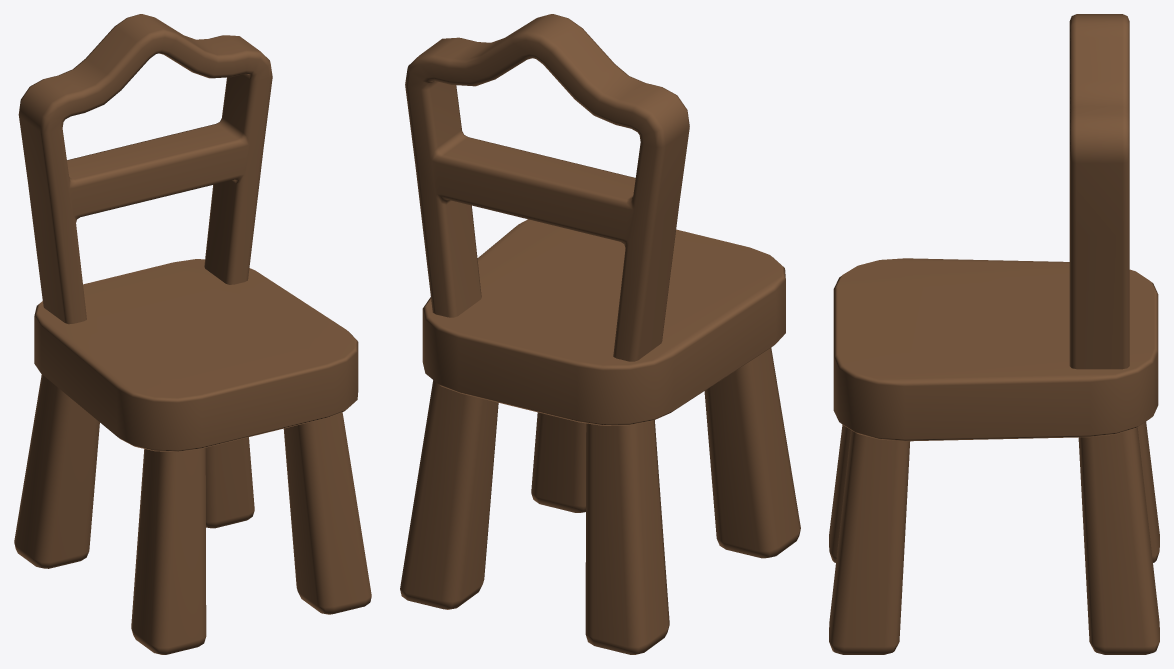
Rendered from Chair_brown.glb.
The picture shows the model from 3 angles, left to right: view 1: azimuth 30°, elevation 25°; view 2: azimuth 150°, elevation 25°; view 3: azimuth 270°, elevation 25°; orthographic projection. The views are drawn at different scales.
Visible parts, largest first — view 1: Chair_11; view 2: Chair_11; view 3: Chair_11.
Boxes of the visible parts, x1,y1,x2,y2 form: Chair_11: (14, 14, 371, 654); Chair_11: (400, 14, 800, 654); Chair_11: (829, 14, 1159, 654).
Size of the model in its own units: 0.5707 by 1.23 by 0.6324.
1 material, 1 textured.
